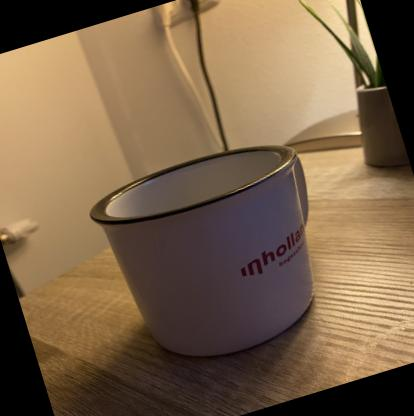Cup: (78, 126, 352, 386)
